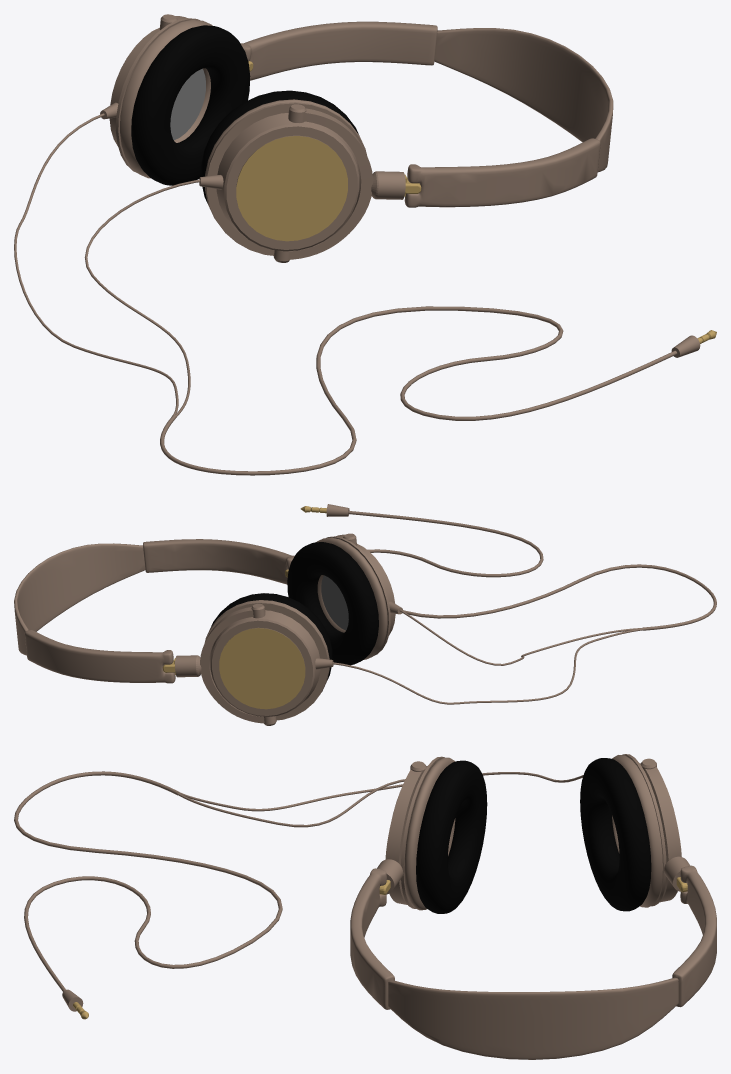
The picture shows the model from 3 angles, top to bottom: view 1: azimuth 30°, elevation 25°; view 2: azimuth 150°, elevation 25°; view 3: azimuth 270°, elevation 25°; orthographic projection. The views are drawn at different scales.
Parts seen in each view (by area): view 1: 4d7c973db4998d579f75b5465e14f1ed45db9bdc > > root > (×5); view 2: 4d7c973db4998d579f75b5465e14f1ed45db9bdc > > root > (×5); view 3: 4d7c973db4998d579f75b5465e14f1ed45db9bdc > > root > (×3).
Boxes of the visible parts, x1=… form: 4d7c973db4998d579f75b5465e14f1ed45db9bdc > > root > (×5): x1=14, y1=14, x2=716, y2=475; 4d7c973db4998d579f75b5465e14f1ed45db9bdc > > root > (×5): x1=14, y1=504, x2=716, y2=725; 4d7c973db4998d579f75b5465e14f1ed45db9bdc > > root > (×3): x1=14, y1=754, x2=716, y2=1059.
Size of the model in its own units: 0.223 by 0.0539 by 0.2267.
